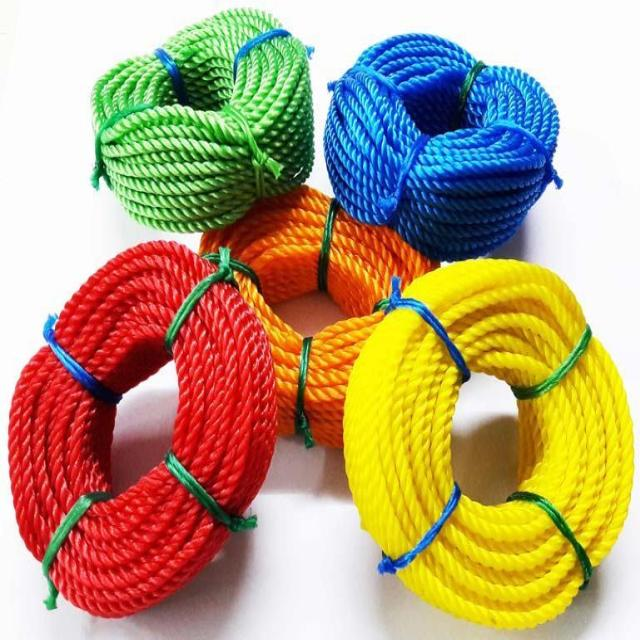Rope: (343, 237, 629, 619), (4, 234, 276, 626), (315, 16, 568, 246)
